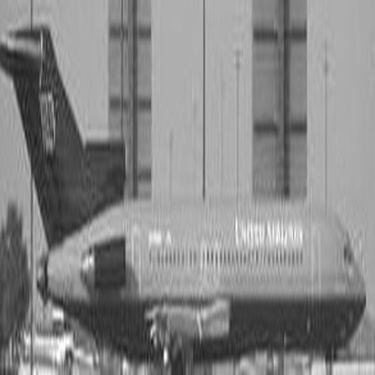airplane: (2, 4, 361, 364)
